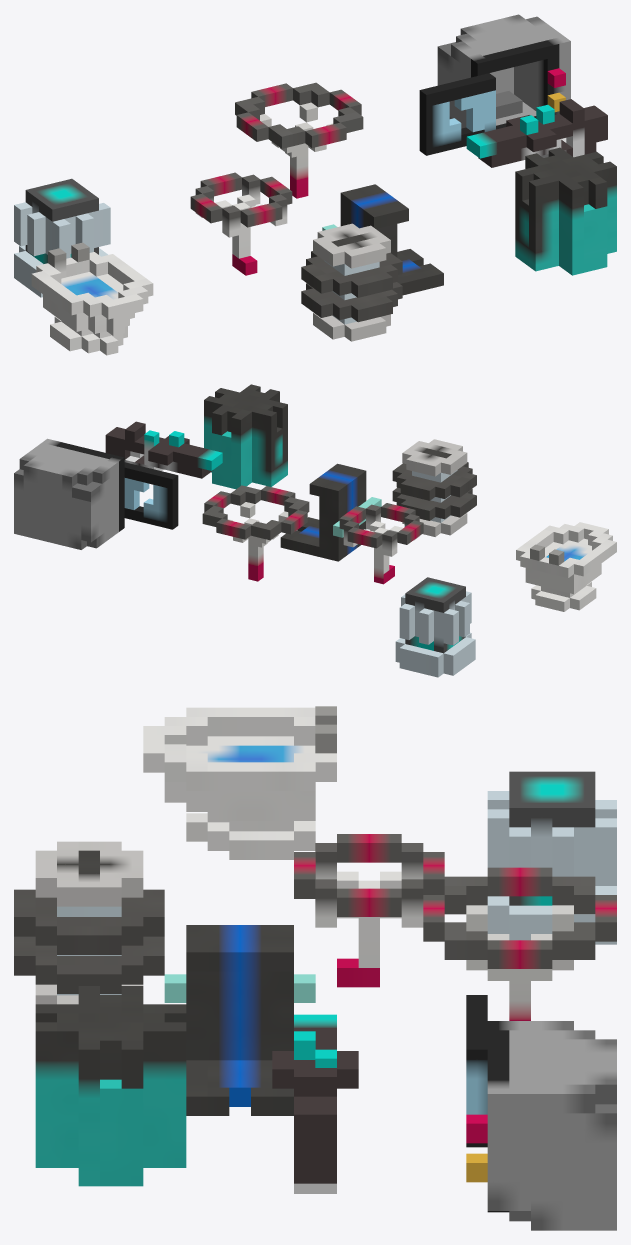
The model's file is normal_parts.dae.
3 views of the same model, one above another, from view 1: azimuth 30°, elevation 25°; view 2: azimuth 150°, elevation 25°; view 3: azimuth 270°, elevation 25° (orthographic). The views are drawn at different scales.
Parts seen in each view (by area): view 1: parts_microoven, parts_cylinder_2, parts_cylinder_1, parts_toilet, parts_cylinder3, parts_brokenhandle_2, parts_brokenlasergun, parts_brokenhandle_1, parts_seat; view 2: parts_microoven, parts_cylinder_2, parts_cylinder3, parts_toilet, parts_cylinder_1, parts_seat, parts_brokenhandle_2, parts_brokenlasergun, parts_brokenhandle_1; view 3: parts_microoven, parts_cylinder_2, parts_toilet, parts_seat, parts_cylinder_1, parts_cylinder3, parts_brokenhandle_2, parts_brokenhandle_1, parts_brokenlasergun.
Part boxes in pixels (<box>): parts_microoven: <box>419,14,570,155</box>; parts_cylinder_2: <box>515,147,616,275</box>; parts_cylinder_1: <box>301,223,402,341</box>; parts_toilet: <box>31,242,153,355</box>; parts_cylinder3: <box>14,178,110,297</box>; parts_brokenhandle_2: <box>235,82,363,198</box>; parts_brokenlasergun: <box>466,99,607,167</box>; parts_brokenhandle_1: <box>190,172,292,275</box>; parts_seat: <box>322,184,443,295</box>; parts_microoven: <box>14,438,178,549</box>; parts_cylinder_2: <box>204,384,287,489</box>; parts_cylinder3: <box>395,577,475,677</box>; parts_toilet: <box>516,522,616,611</box>; parts_cylinder_1: <box>392,439,476,536</box>; parts_seat: <box>280,463,381,561</box>; parts_brokenhandle_2: <box>202,485,309,581</box>; parts_brokenlasergun: <box>105,421,222,478</box>; parts_brokenhandle_1: <box>339,503,423,584</box>; parts_microoven: <box>466,995,616,1230</box>; parts_cylinder_2: <box>35,986,186,1186</box>; parts_toilet: <box>143,706,336,859</box>; parts_seat: <box>164,925,315,1115</box>; parts_cylinder_1: <box>14,841,164,1004</box>; parts_cylinder3: <box>487,771,616,944</box>; parts_brokenhandle_2: <box>423,867,616,1020</box>; parts_brokenhandle_1: <box>294,834,444,987</box>; parts_brokenlasergun: <box>272,1014,358,1193</box>.
Size of the model in its own units: 51 by 11 by 28.
Materials: 1 (1 with a texture image).
